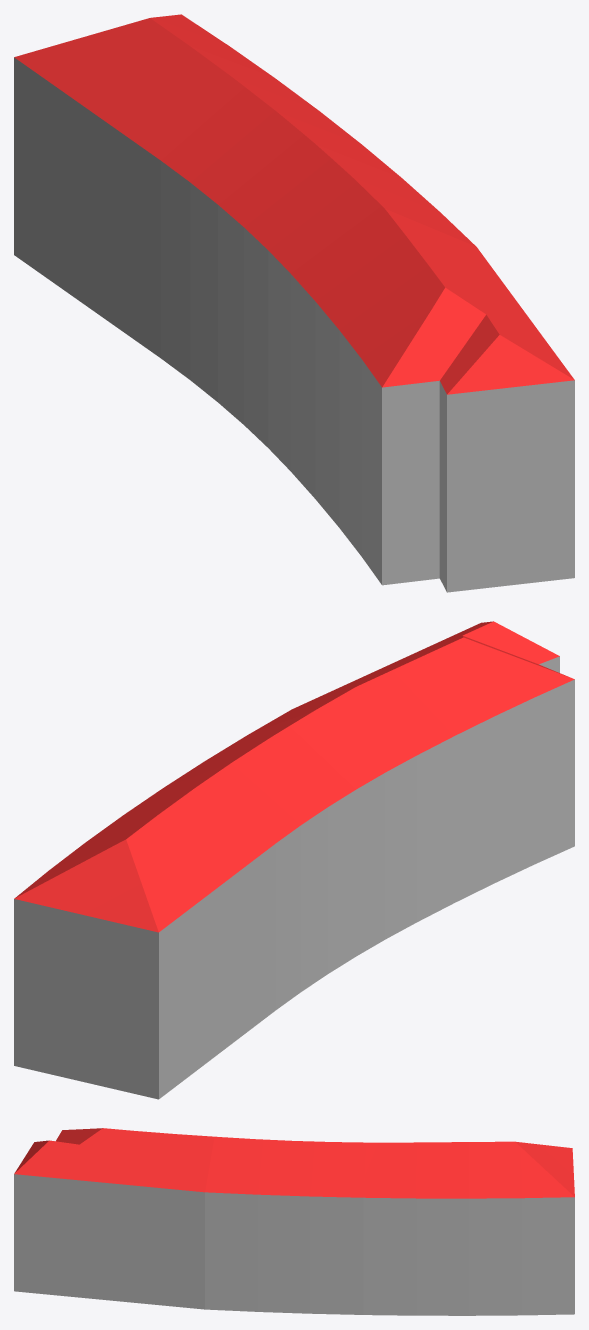
Rendered from DEBE3D04YY50000Ro9.dae.
3 renders of one model, top to bottom at view 1: azimuth 30°, elevation 25°; view 2: azimuth 150°, elevation 25°; view 3: azimuth 270°, elevation 25°, orthographic. The views are drawn at different scales.
Bounding box in the file's own units: 13.97 × 48.34 × 14.17.
